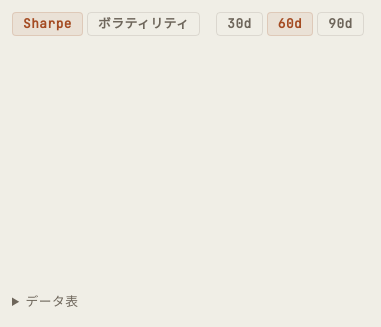
RollingMetricsChartTV metric toggle (issue #376) › 既定は Sharpe、トグルで年率ボラティリティに切り替わる
This screenshot has width=381, height=327.
Click the button "ボラティリティ".
click(144, 24)  # box [87,12,200,36]
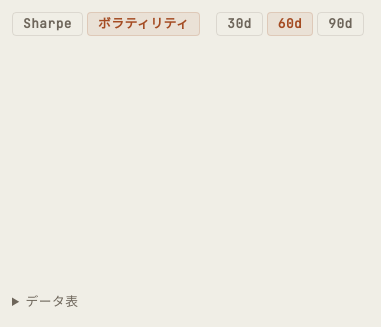
Expected: the element named "Rolling Volatility" is shown
